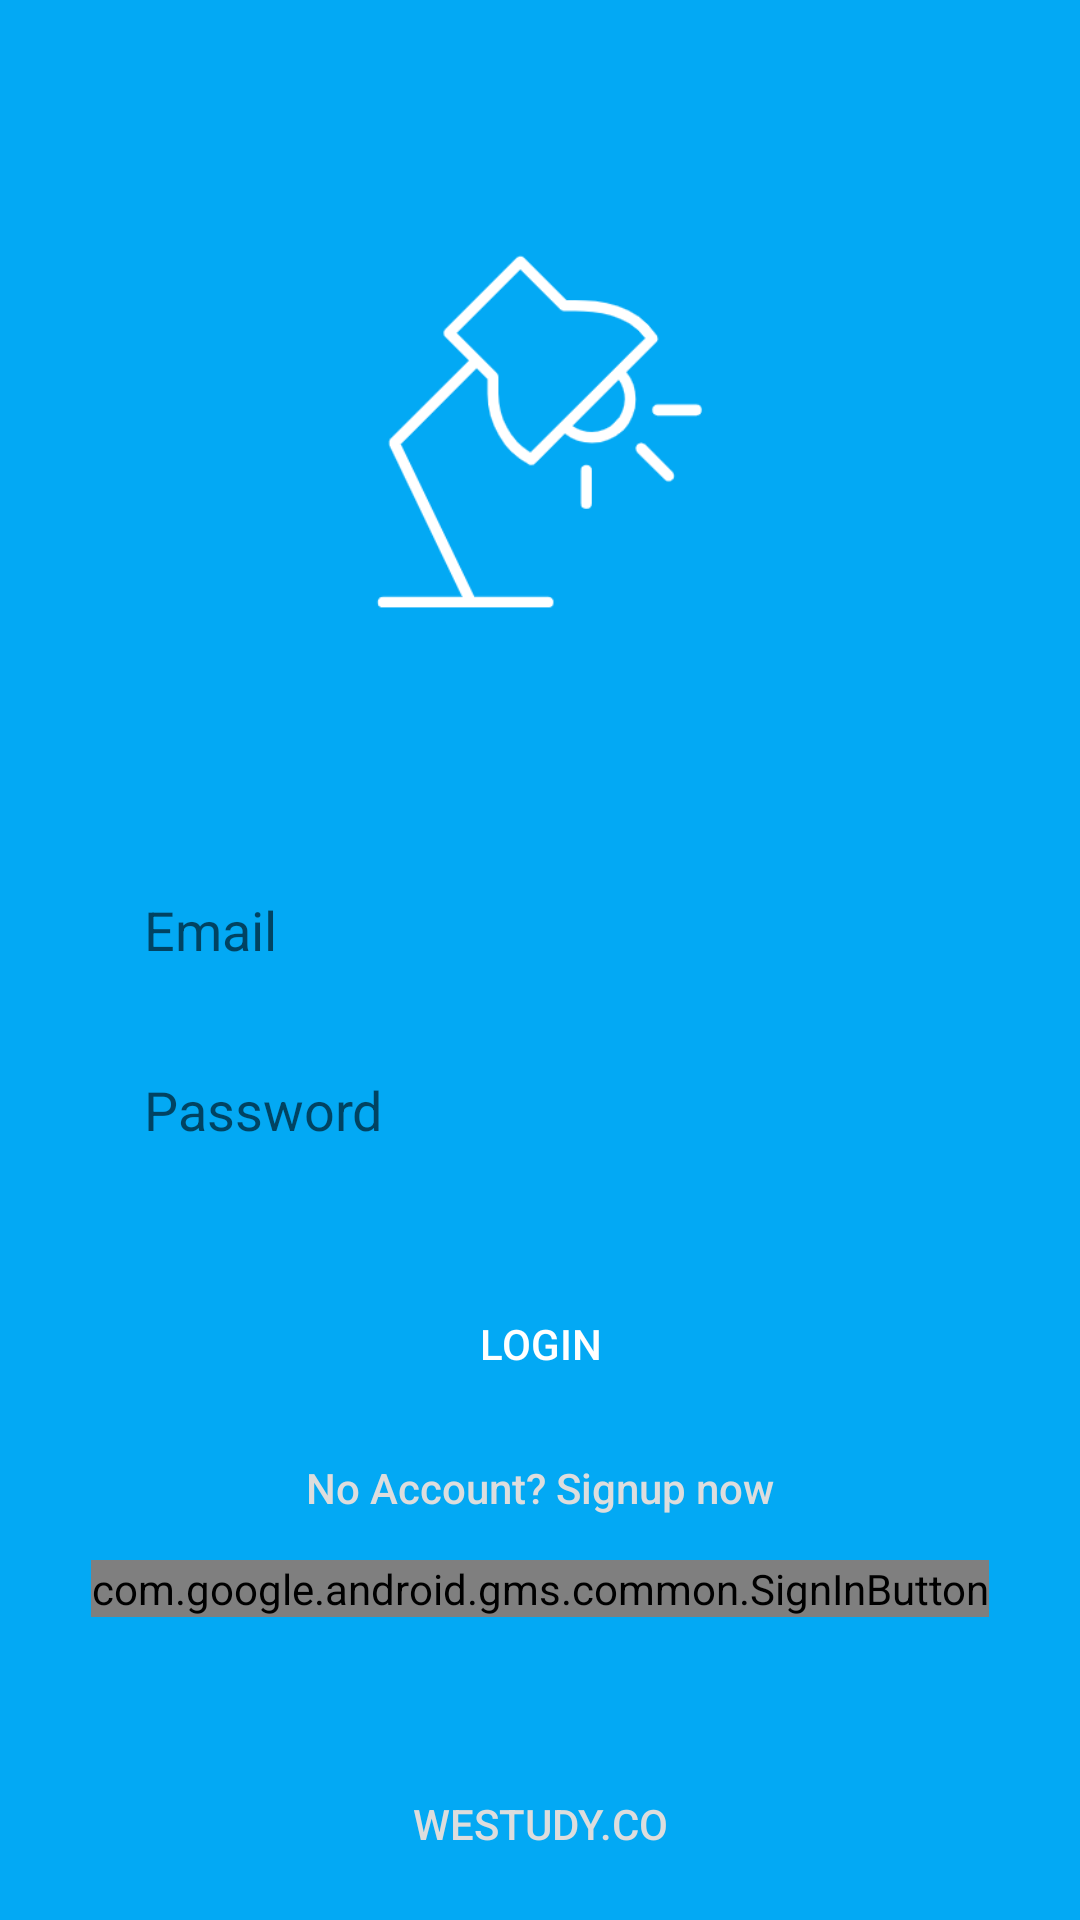

Screen size 1080 × 1920. Icon name, then its center in pixels as point (x, y):
lamp: point (539, 431)
